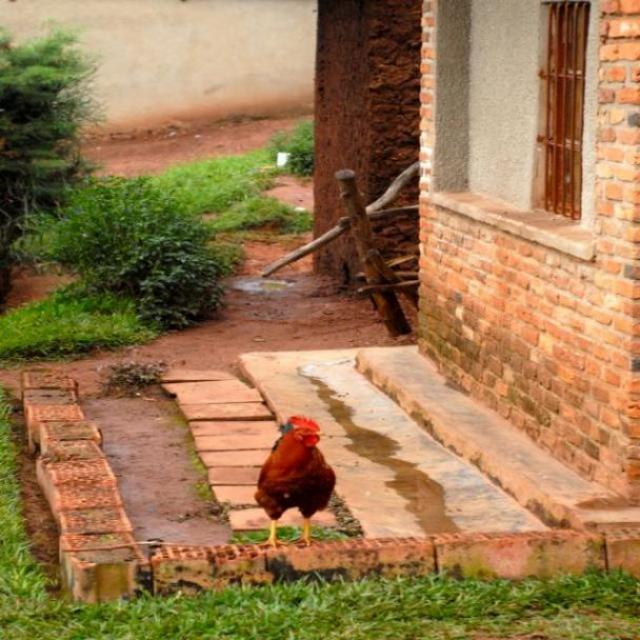Chicken: (241, 421, 342, 541)
